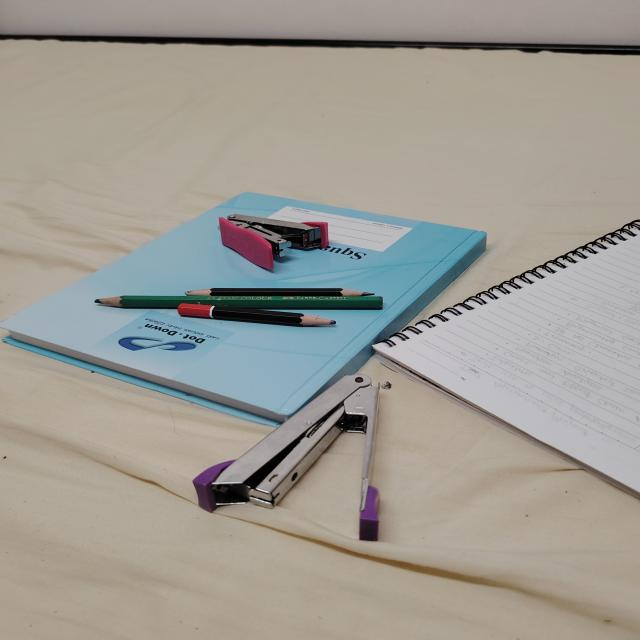pencil: (95, 296, 383, 310), (177, 304, 336, 326), (185, 286, 375, 297)
stapler: (194, 374, 380, 541), (219, 214, 329, 269)
